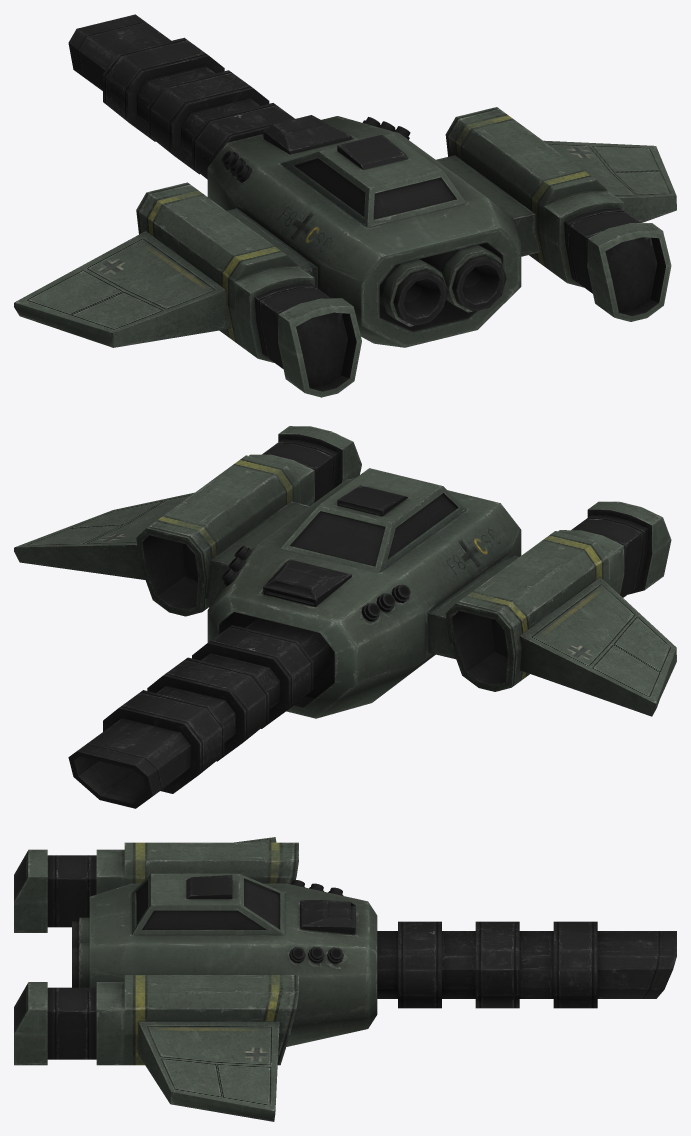
Rendered from starship.FBX.
3 renders of one model, top to bottom at view 1: azimuth 30°, elevation 25°; view 2: azimuth 150°, elevation 25°; view 3: azimuth 270°, elevation 25°, orthographic. The views are drawn at different scales.
Parts seen in each view (by area): view 1: Box001; view 2: Box001; view 3: Box001.
Boxes of the visible parts, x1,y1,x2,y2 form: Box001: [14, 14, 676, 397]; Box001: [14, 426, 676, 808]; Box001: [14, 837, 676, 1121].
Bounding box in the file's own units: 120 × 29.35 × 123.
1 material, 1 textured.
